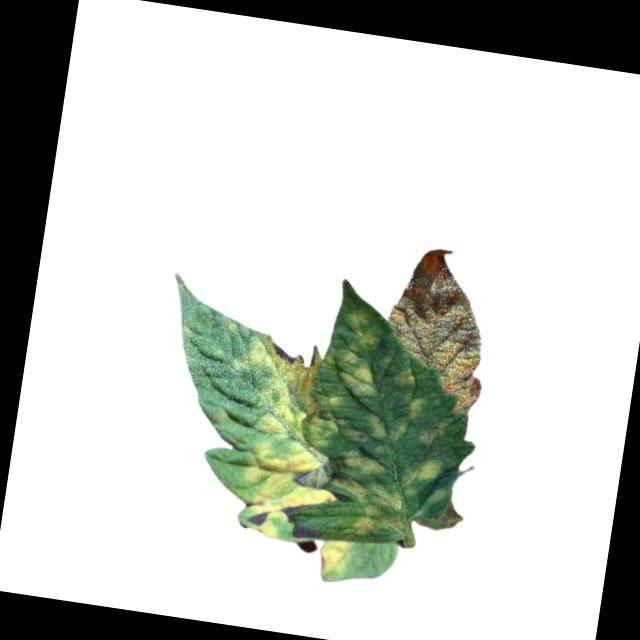Leaf_Mold: (284, 283, 494, 556), (206, 329, 358, 547), (376, 242, 501, 413), (317, 533, 349, 577)
